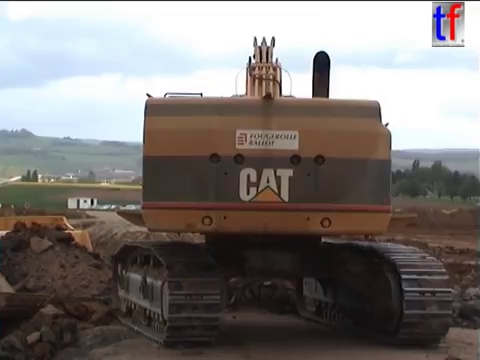excavator: (107, 32, 458, 349)
truck: (1, 211, 123, 360)
